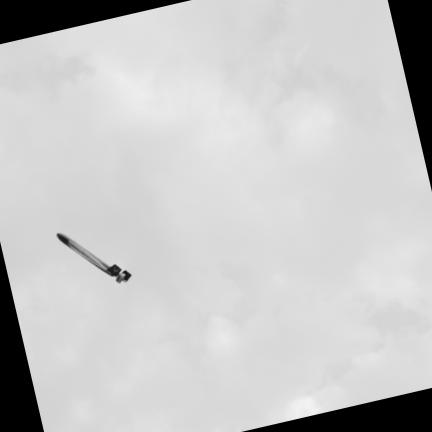Shahed: (56, 233, 132, 284)
